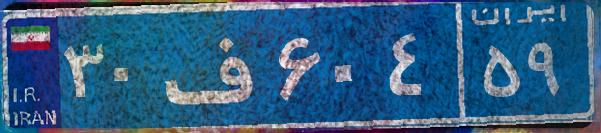0: (330, 28, 385, 110), (110, 28, 158, 105)
3: (57, 26, 110, 107)
4: (385, 28, 445, 110)
5: (475, 38, 525, 113)
6: (273, 28, 330, 110)
9: (525, 38, 570, 115)
ف: (158, 15, 273, 115)
